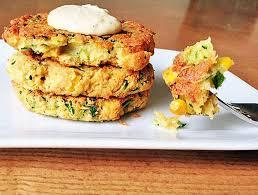Organic: (7, 6, 258, 151)
